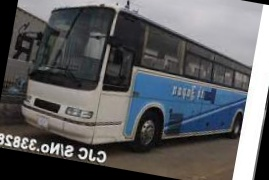bus: (17, 0, 259, 169)
